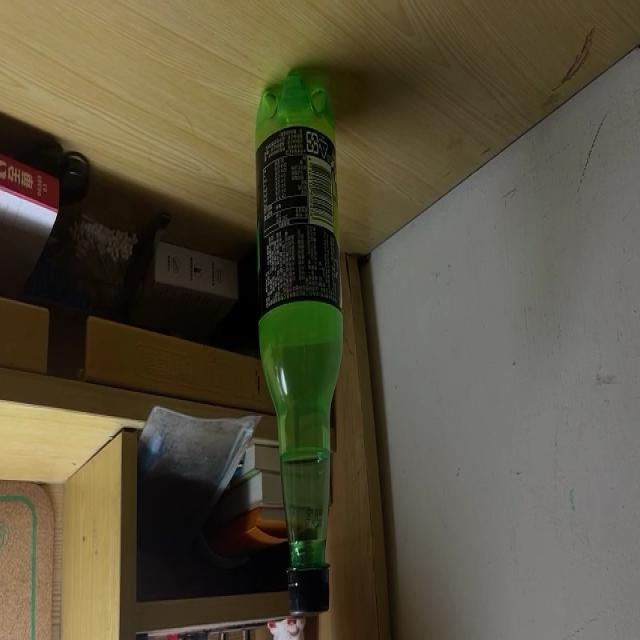Mountain-Dew: (254, 70, 346, 614)
